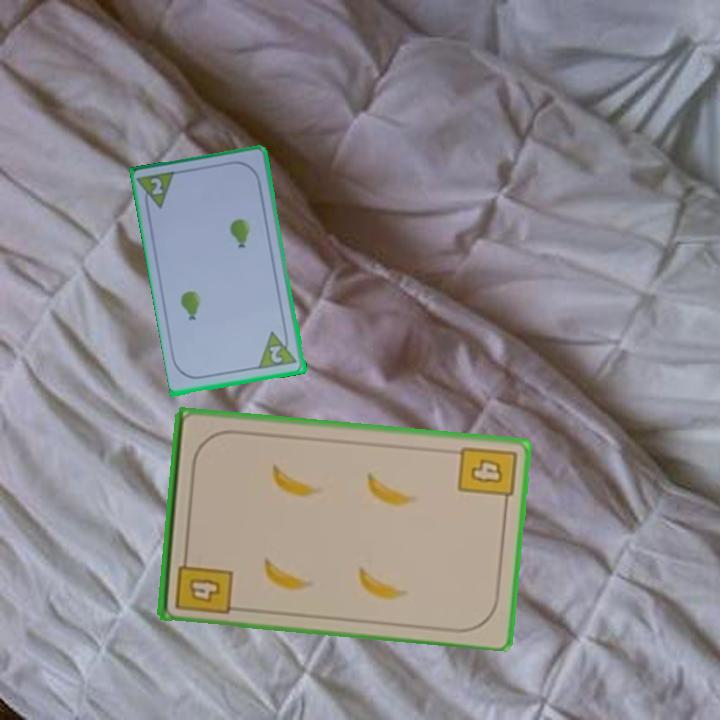2p: (266, 342, 286, 366), (147, 174, 166, 198)
4b: (454, 442, 519, 510), (171, 548, 235, 617)
